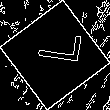L_W: (28, 36, 82, 74)
